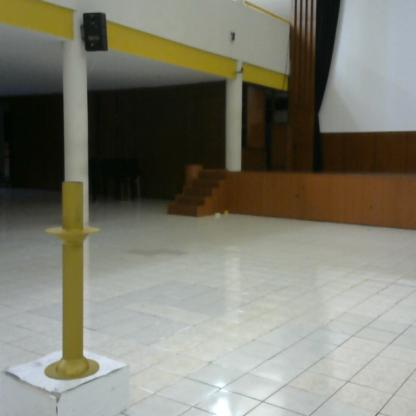pole: (38, 177, 108, 385)
